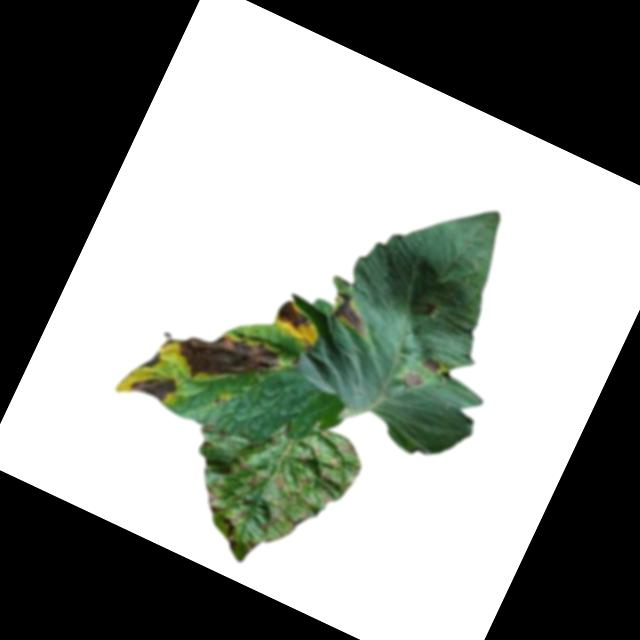Early_blight: (166, 307, 288, 410), (324, 287, 379, 338), (127, 362, 180, 407), (268, 293, 315, 334), (215, 501, 253, 549), (195, 479, 234, 516), (417, 349, 445, 375), (138, 344, 162, 372), (401, 367, 427, 392)
